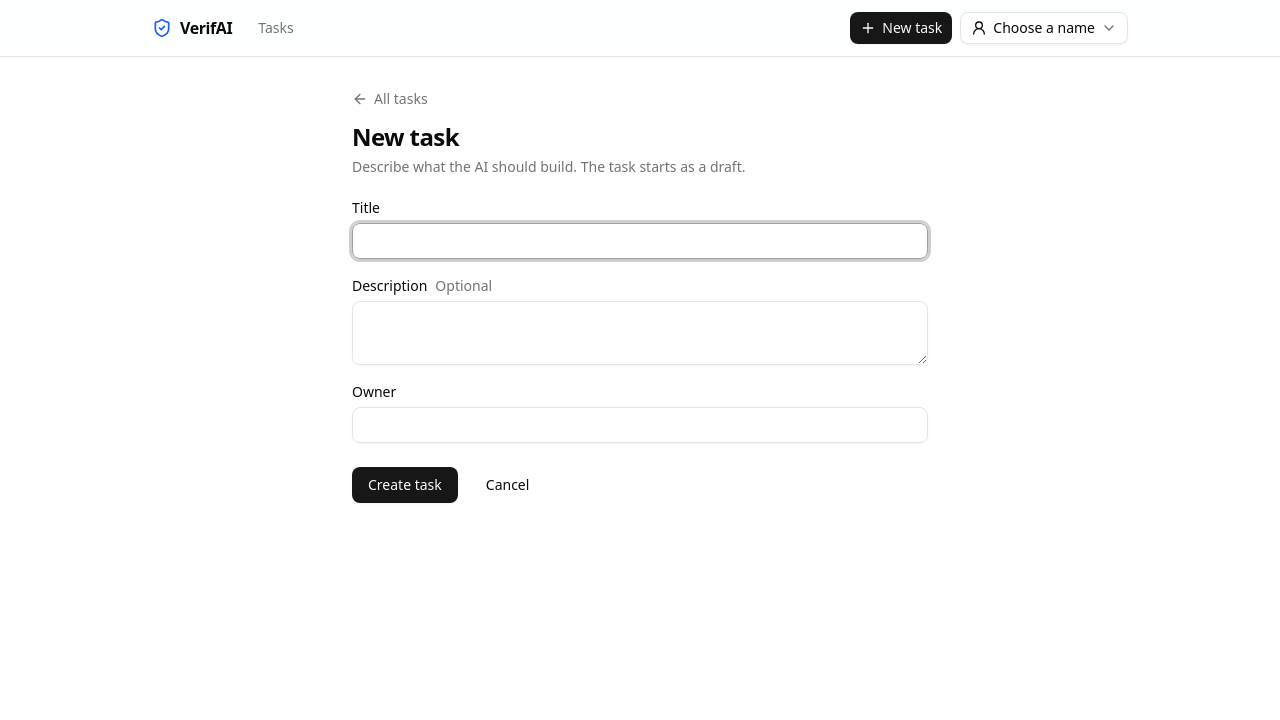
Test: CreateTaskPage › shows a field error when the owner is empty
Expected: the heading "New task" is shown, [352, 120, 459, 153]
Type "Add login page" into the field labelled "Title". click: x=640, y=241
box: [352, 223, 928, 259]
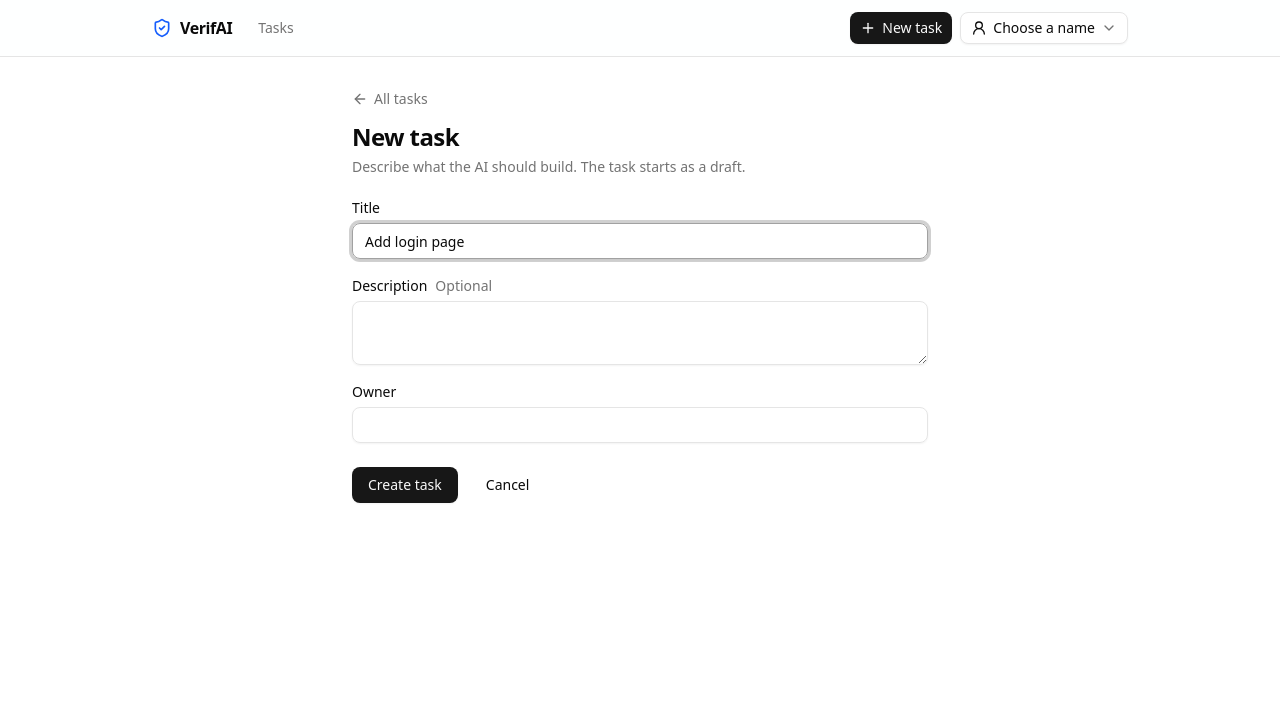
Click the button "Create task". click: x=405, y=485
box: [352, 467, 458, 503]
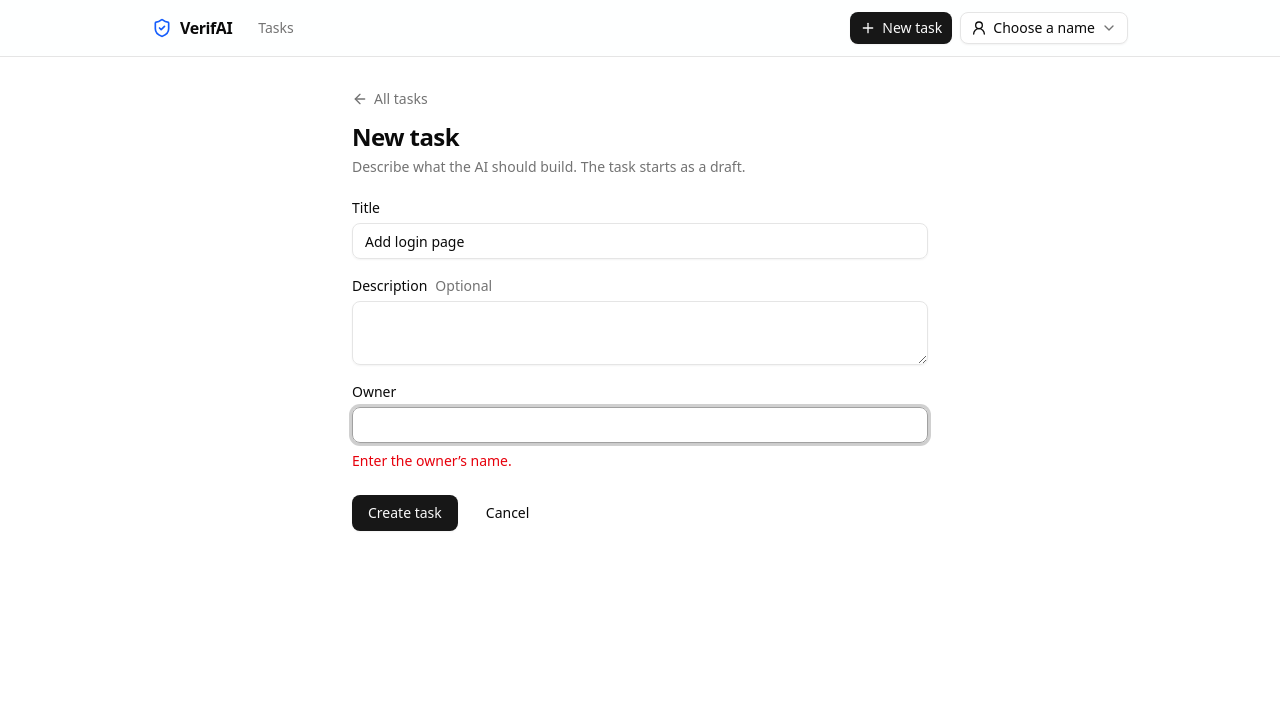
Expected: the text "Enter the owner’s name." is shown, [352, 451, 512, 470]
